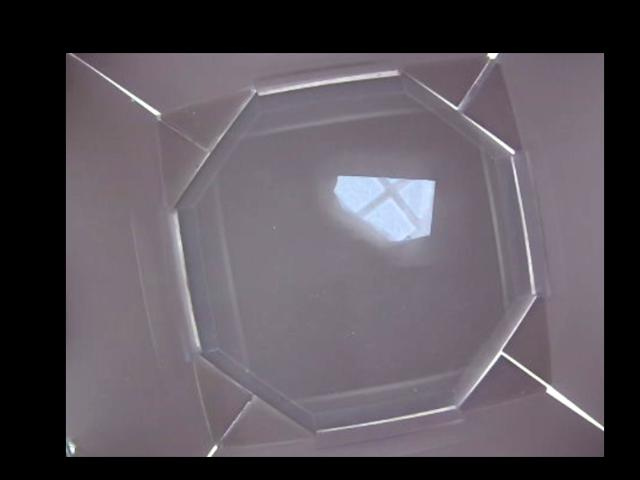China: (335, 178, 435, 239)
